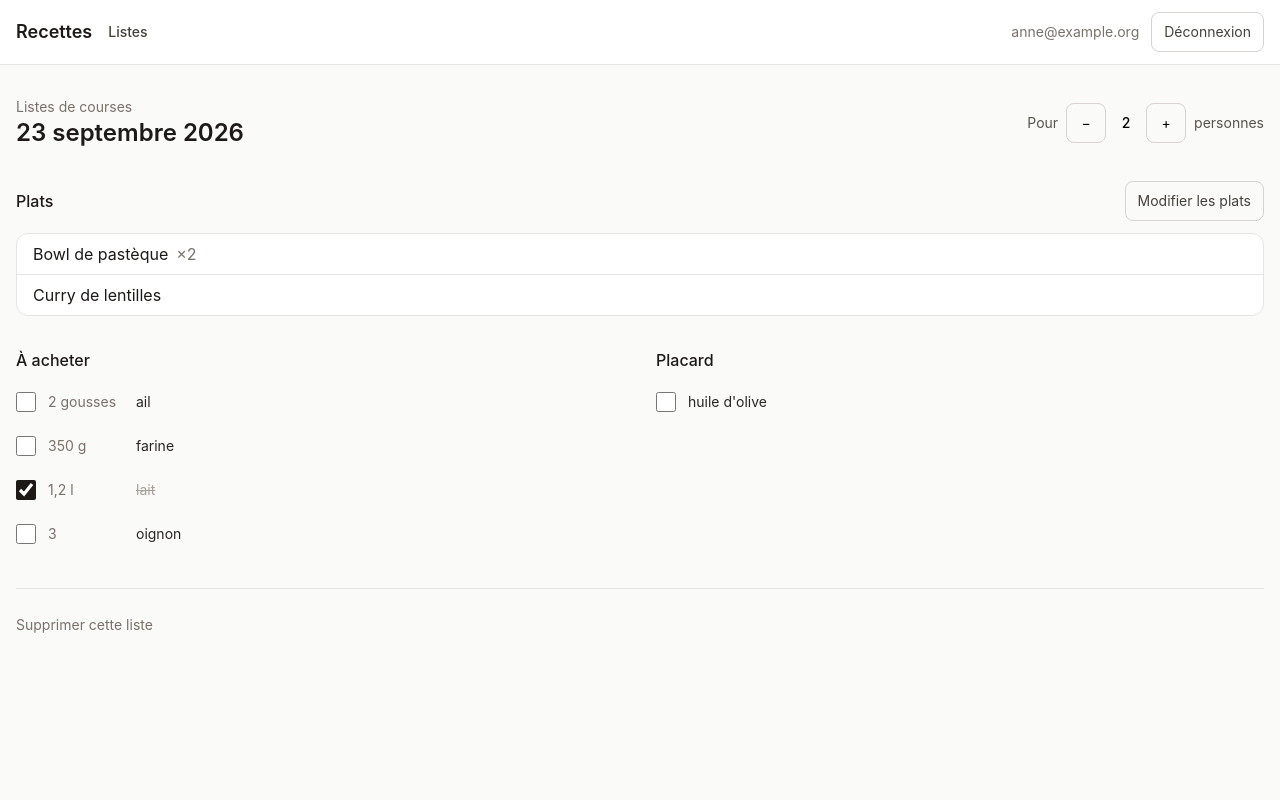
Test case: listes de courses › modifier les plats rouvre la liste et mène à la préparation
Check: the heading "23 septembre 2026" is shown, box 16,117 -> 244,149
Click the button "Modifier les plats".
click(1194, 201)  # box 1124,181 -> 1264,221
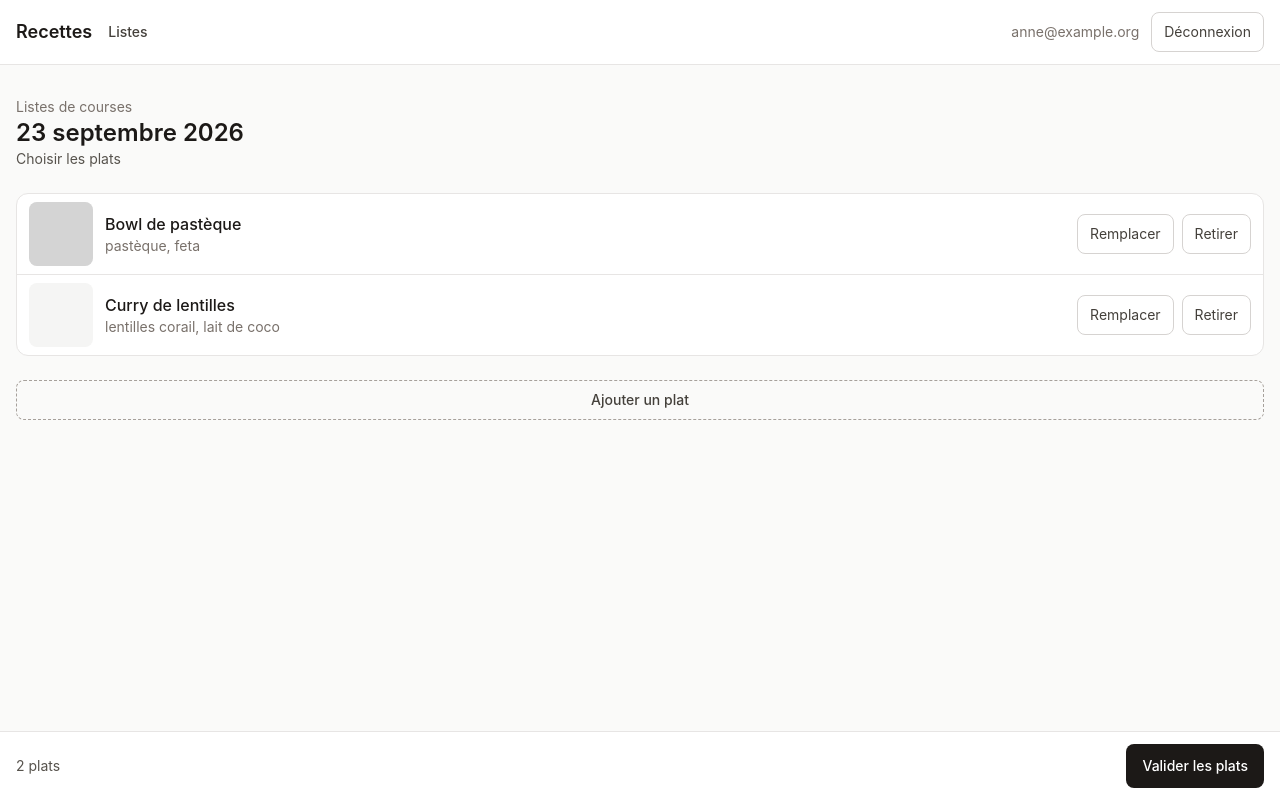
Check: the button "Valider les plats" is shown, box 1126,744 -> 1264,788
